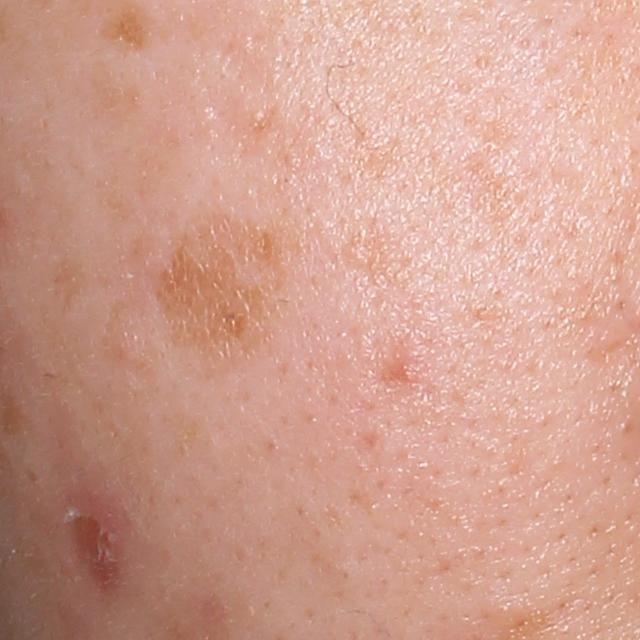melasma: (155, 205, 304, 363), (93, 9, 161, 59)
papule: (387, 355, 425, 386)
